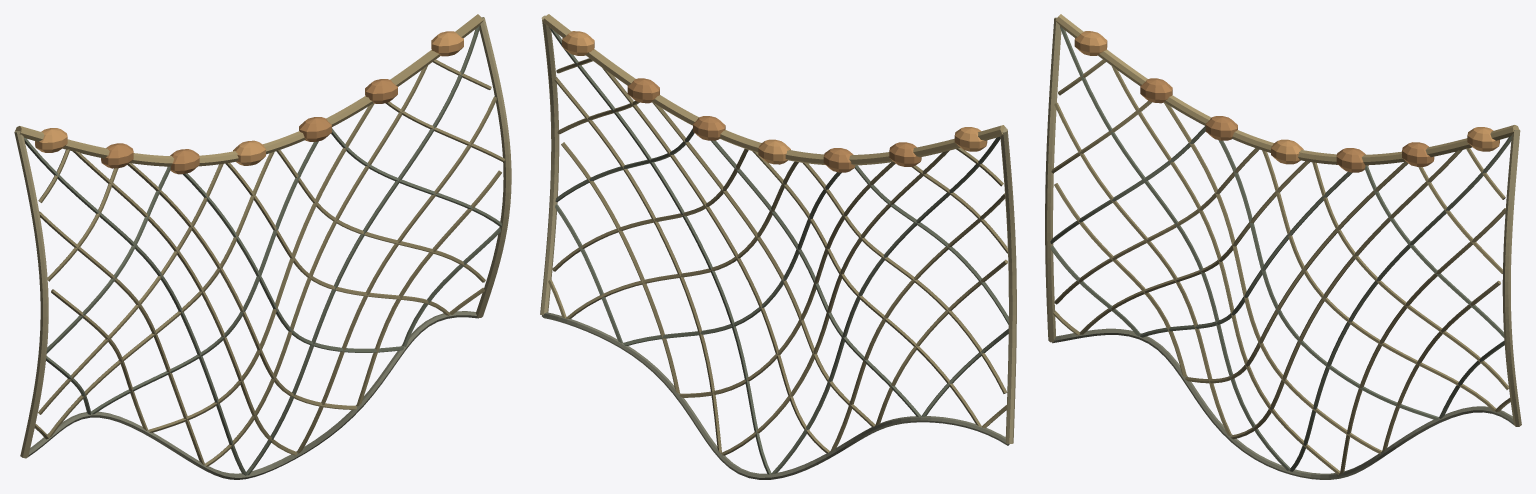
Rendered from DryingNet.glb.
The picture shows the model from 3 angles, left to right: view 1: azimuth 30°, elevation 25°; view 2: azimuth 150°, elevation 25°; view 3: azimuth 330°, elevation 25°; orthographic projection.
Visible parts, largest first — view 1: DryingNet; view 2: DryingNet; view 3: DryingNet.
Boxes of the visible parts, bbox=[...] form: DryingNet: bbox=[14, 14, 511, 479]; DryingNet: bbox=[540, 14, 1016, 479]; DryingNet: bbox=[1045, 14, 1521, 479].
Bounding box in the file's own units: 1.72 × 1.41 × 0.1871.
